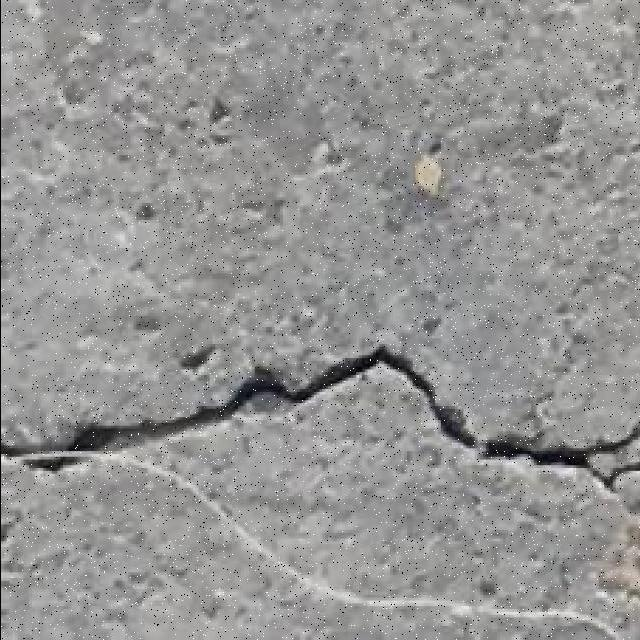Crack: (4, 342, 637, 492)
